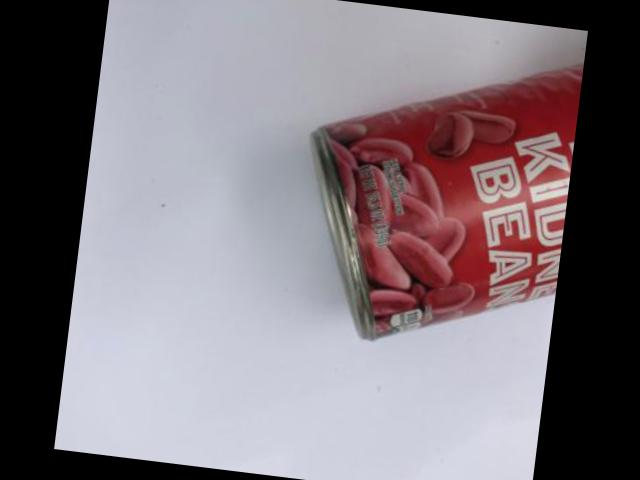metal: (308, 69, 581, 341)
